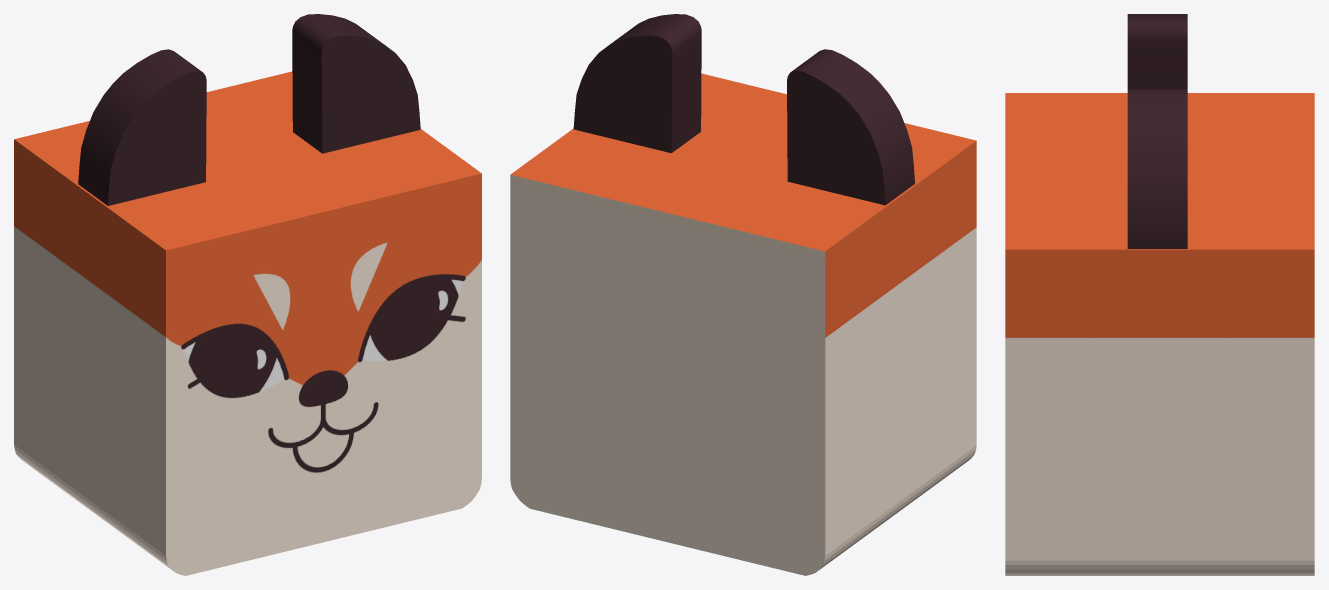
Rendered from Fox.obj.
3 views of the same model, side by side, from view 1: azimuth 30°, elevation 25°; view 2: azimuth 150°, elevation 25°; view 3: azimuth 270°, elevation 25° (orthographic). The views are drawn at different scales.
Parts seen in each view (by area): view 1: Fox; view 2: Fox; view 3: Fox.
Boxes of the visible parts, bbox=[...] form: Fox: bbox=[14, 14, 481, 575]; Fox: bbox=[510, 14, 976, 575]; Fox: bbox=[1005, 14, 1314, 575].
Bounding box in the file's own units: 5.36 × 7.2 × 4.47.
